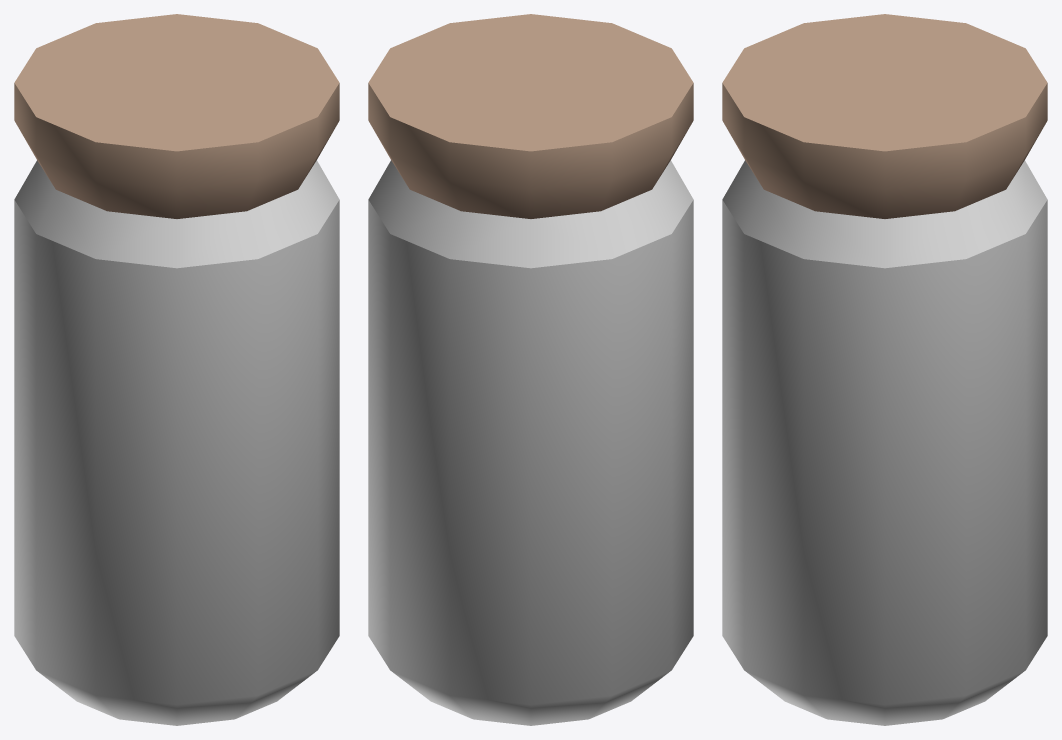
Rendered from jar-glass.glb.
3 renders of one model, left to right at view 1: azimuth 30°, elevation 25°; view 2: azimuth 150°, elevation 25°; view 3: azimuth 270°, elevation 25°, orthographic.
Parts seen in each view (by area): view 1: jar-glass; view 2: jar-glass; view 3: jar-glass.
Part boxes in pixels (<box>): jar-glass: <box>14,14,339,725</box>; jar-glass: <box>368,14,693,725</box>; jar-glass: <box>722,14,1047,725</box>.
Size of the model in its own units: 0.1433 by 0.2889 by 0.1433.
